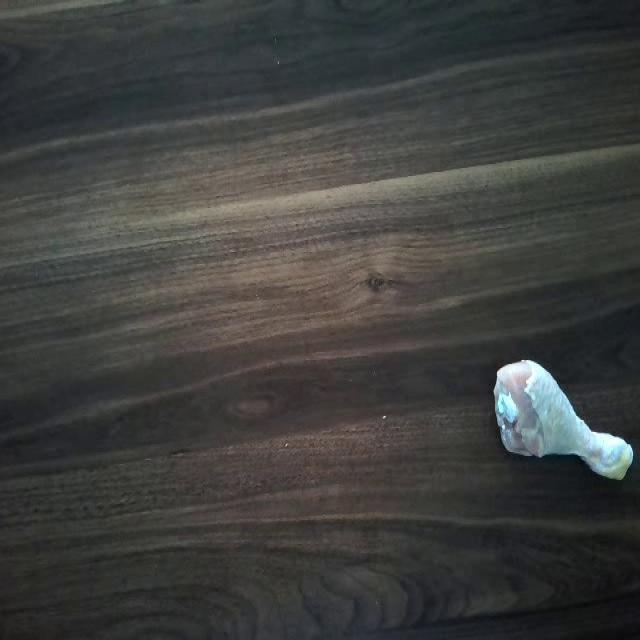leg: (492, 360, 630, 486)
